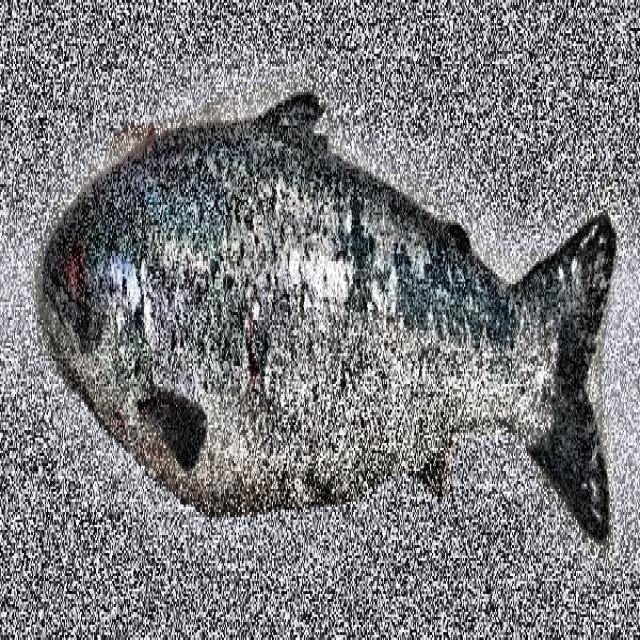mild_red: (73, 95, 559, 512)
